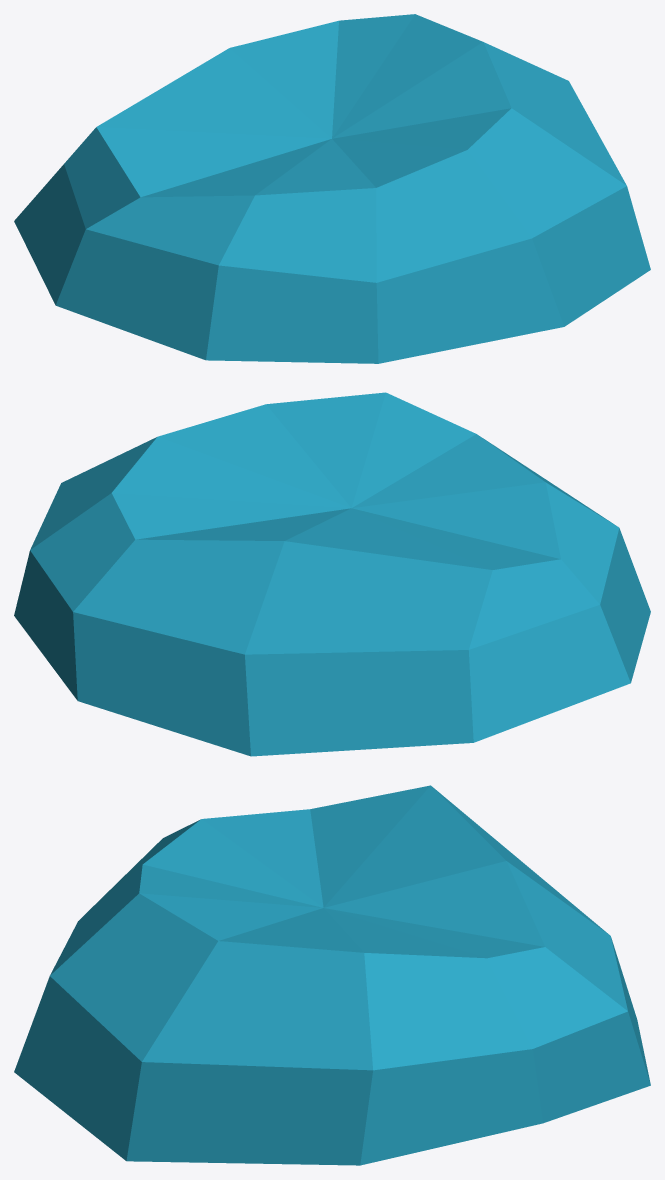
File: Beanbag_Blue.fbx
3 views of the same model, one above another, from view 1: azimuth 30°, elevation 25°; view 2: azimuth 150°, elevation 25°; view 3: azimuth 270°, elevation 25° (orthographic). The views are drawn at different scales.
Parts seen in each view (by area): view 1: Beanbag1; view 2: Beanbag1; view 3: Beanbag1.
Boxes of the visible parts, box(x1,y1,x2,y2) form: Beanbag1: box(14, 14, 650, 363); Beanbag1: box(14, 392, 650, 756); Beanbag1: box(14, 785, 650, 1165).
Size of the model in its own units: 99.59 by 32.2 by 91.7.
